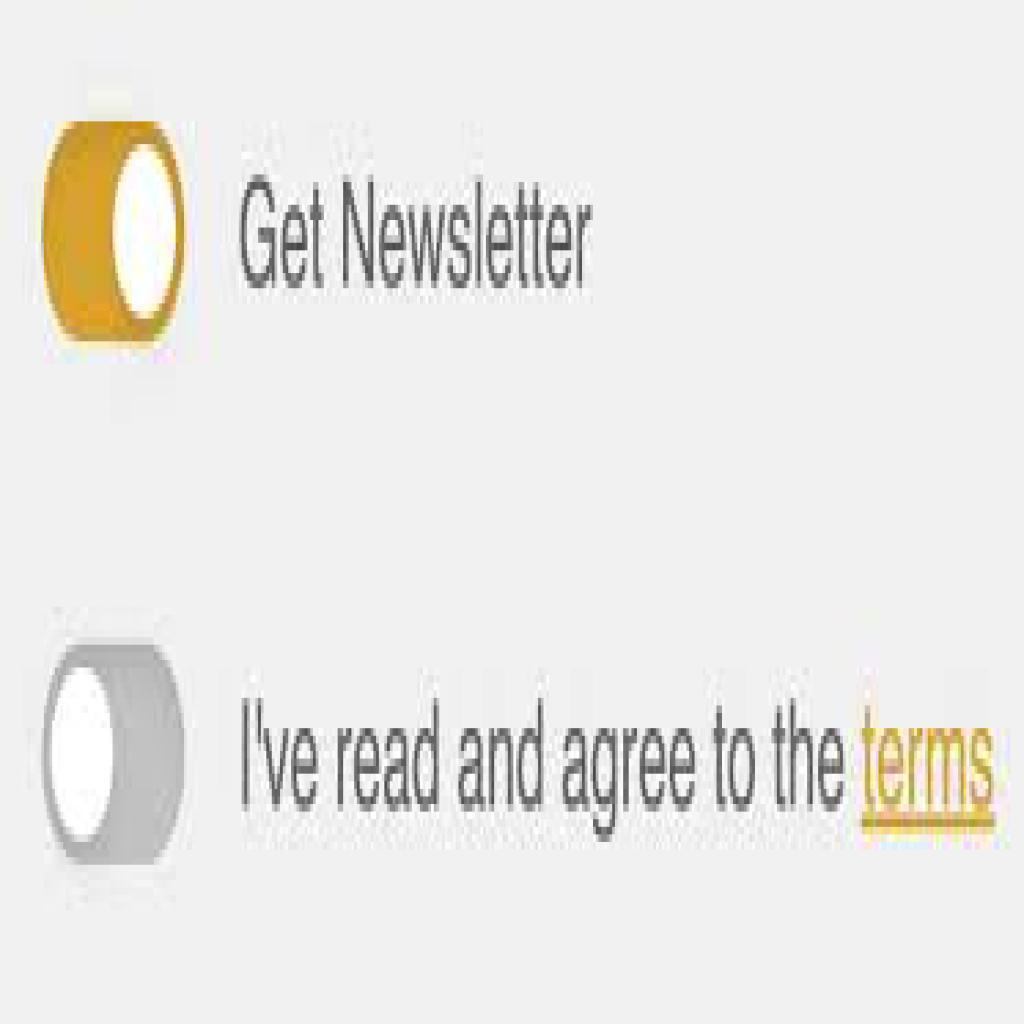label: (232, 689, 1016, 841), (231, 166, 595, 303)
switch: (42, 649, 188, 867), (46, 125, 185, 344)
